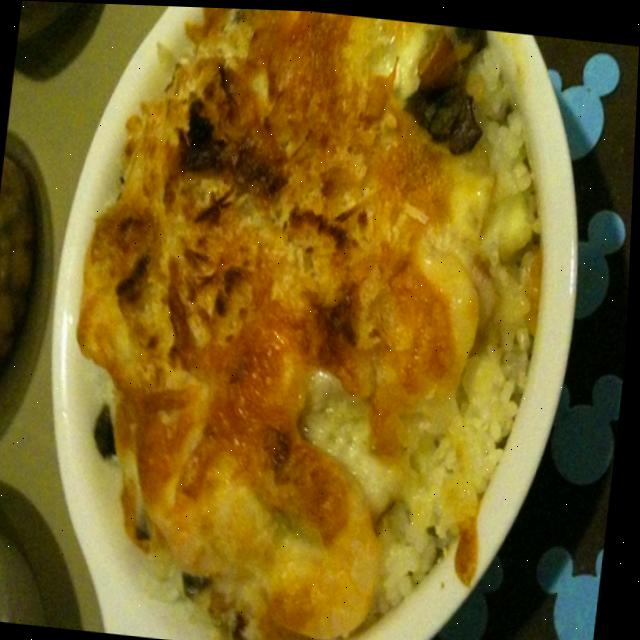米饭主食: (55, 2, 567, 640)
